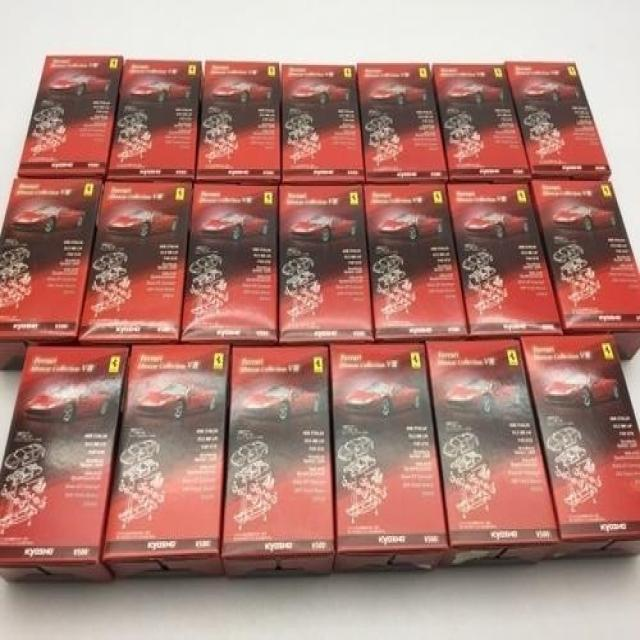box: (0, 346, 131, 584), (425, 340, 561, 568), (102, 345, 230, 582), (329, 343, 449, 572), (521, 335, 640, 560), (223, 346, 335, 577), (529, 179, 640, 360), (0, 179, 105, 370), (77, 179, 195, 346), (448, 183, 564, 341), (365, 184, 470, 343), (180, 183, 279, 346), (278, 184, 375, 346), (18, 55, 124, 176), (506, 61, 611, 181), (430, 63, 532, 183), (109, 58, 205, 179), (357, 65, 449, 184), (197, 60, 280, 184), (283, 65, 365, 183)
